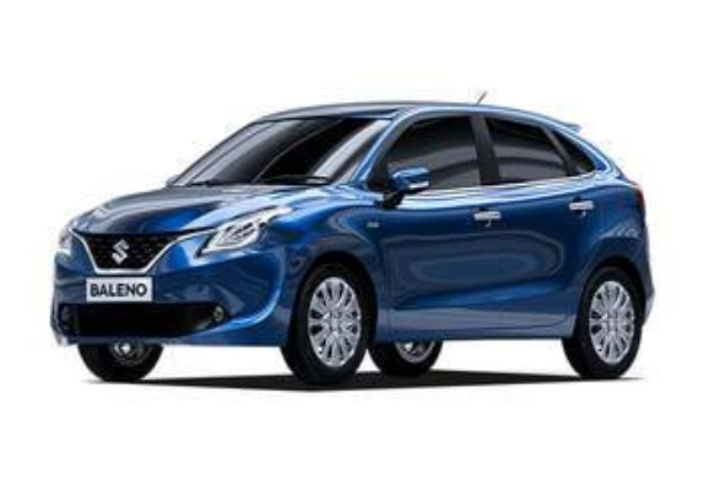car: (33, 78, 670, 408)
